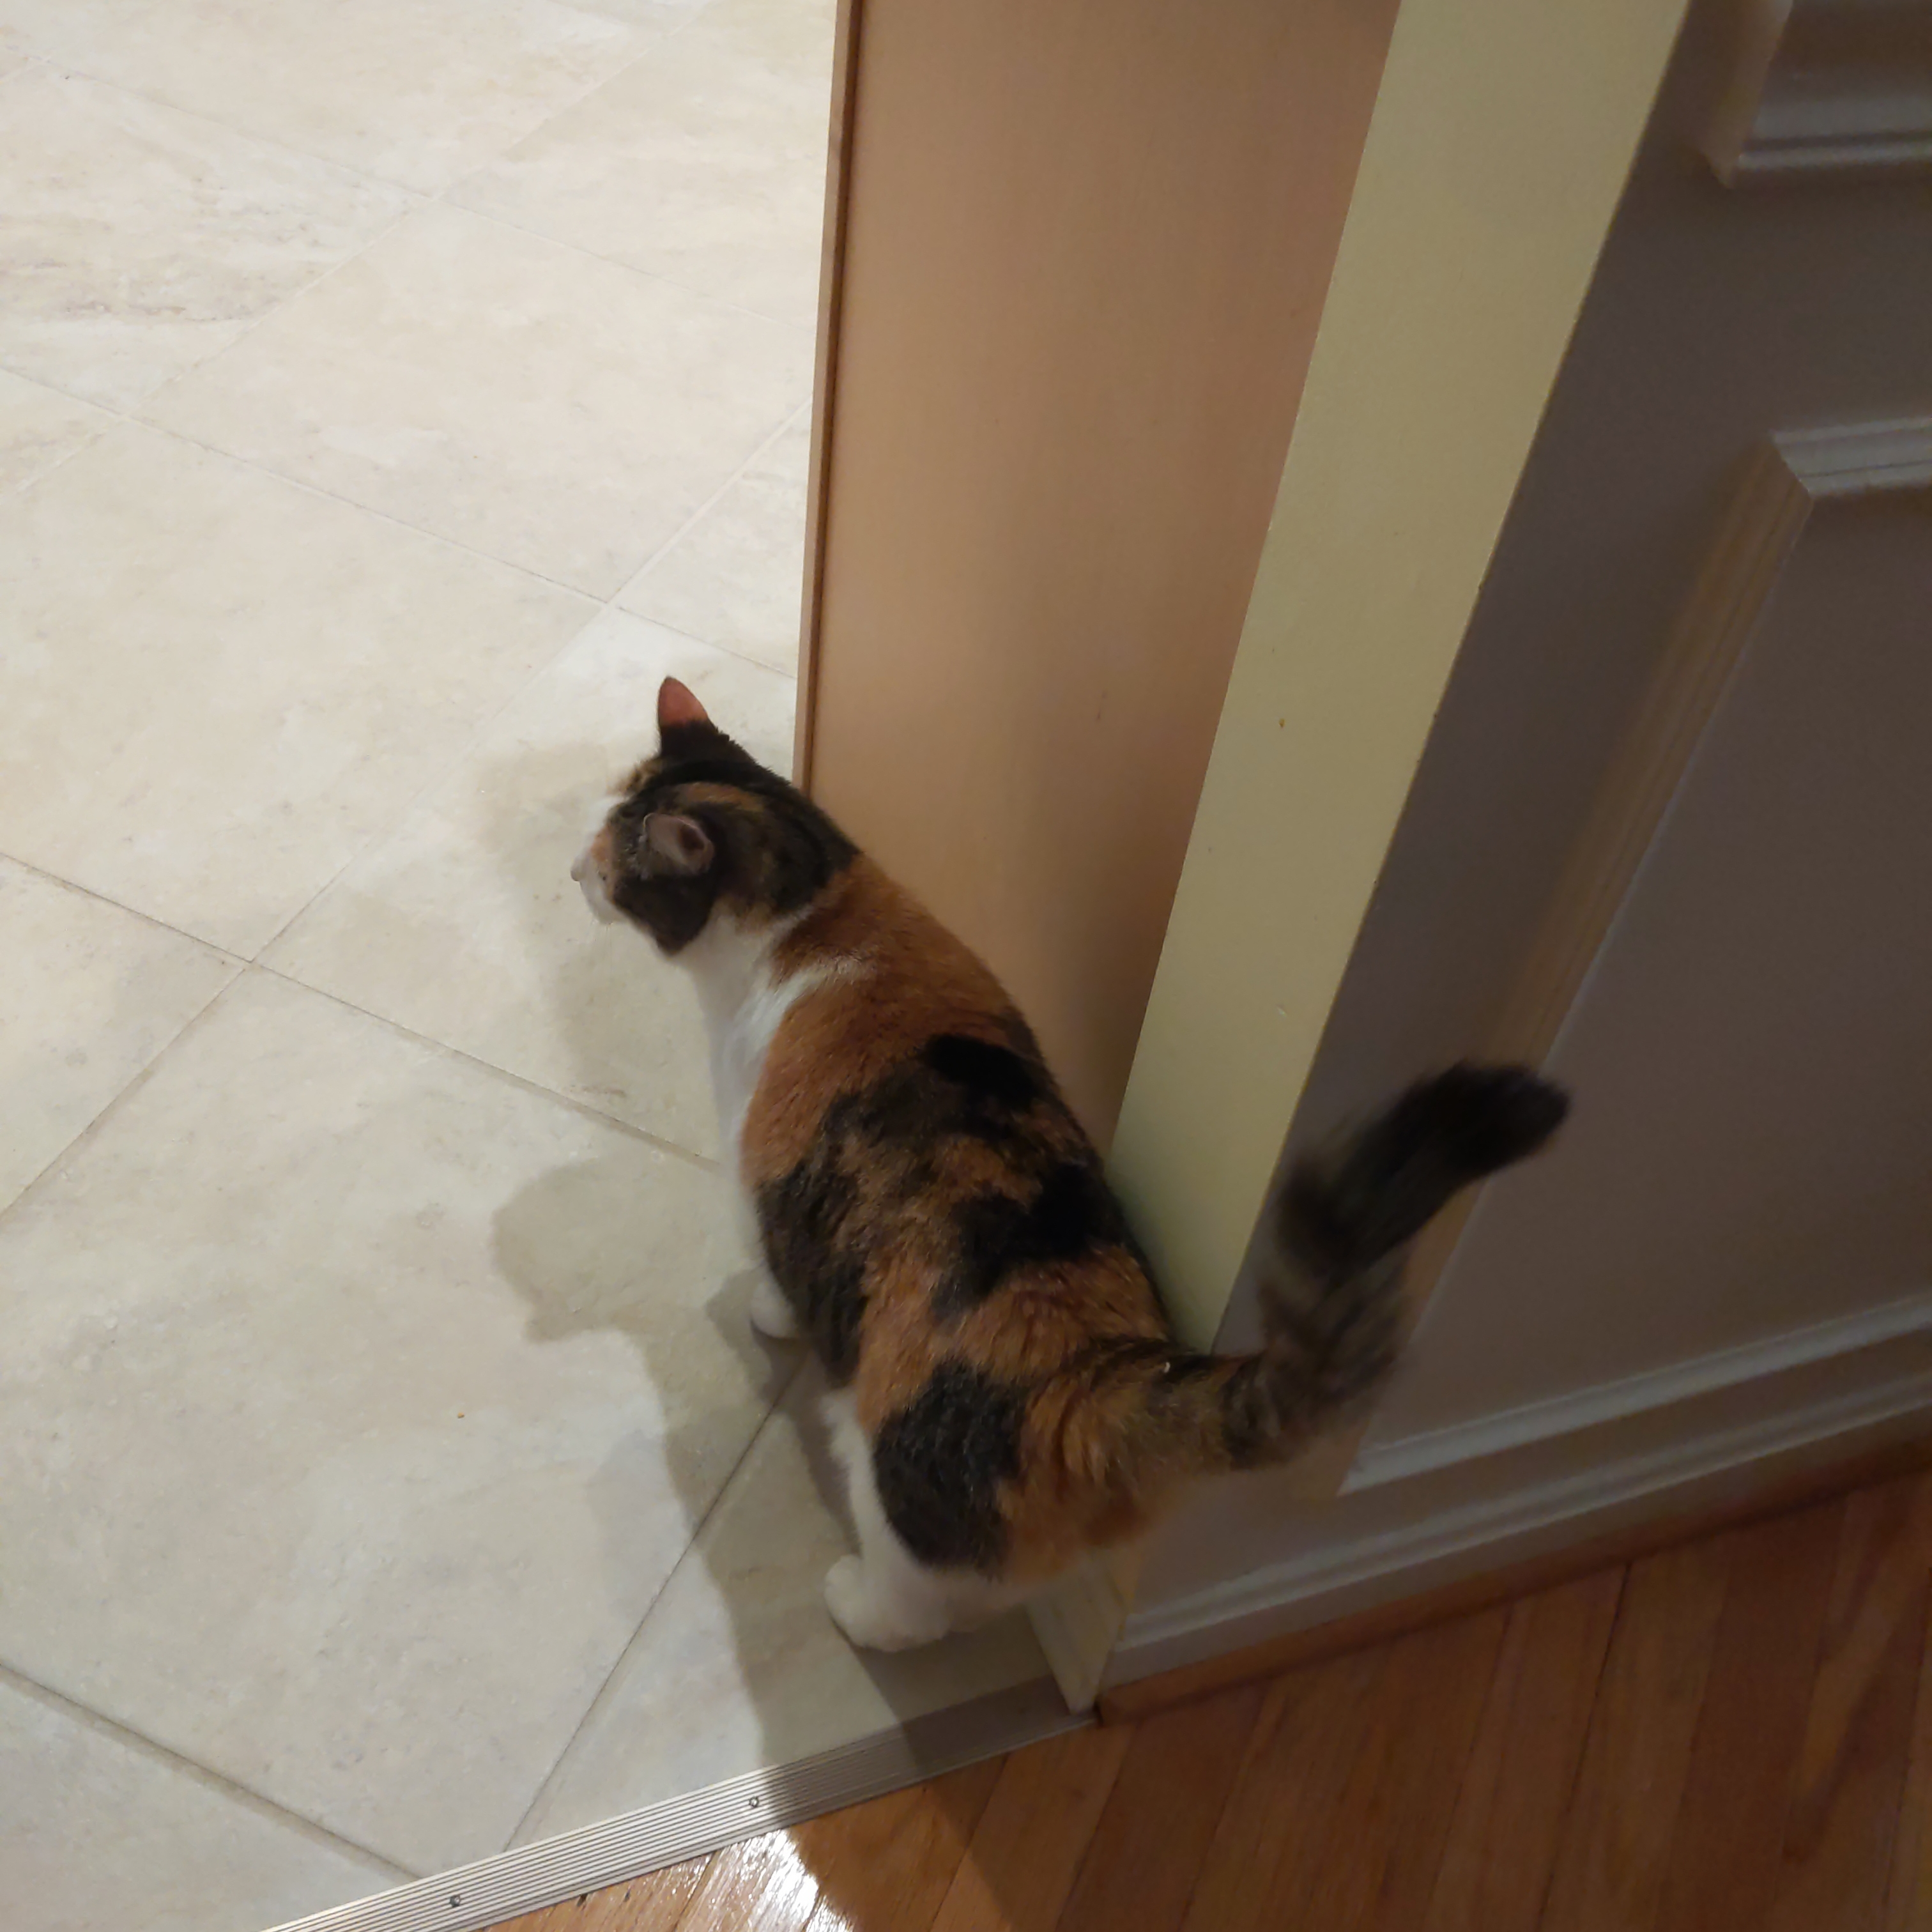Calico: (571, 674, 1573, 1656)
